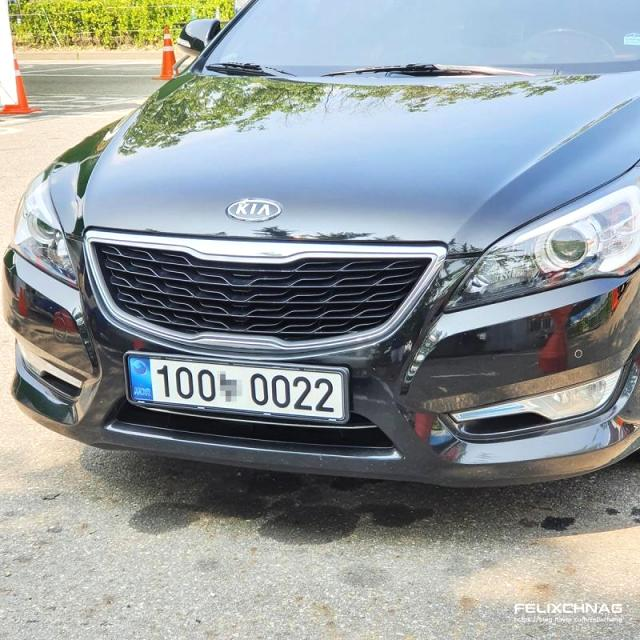car: (0, 0, 640, 504)
illegal_plate: (128, 350, 352, 432)
